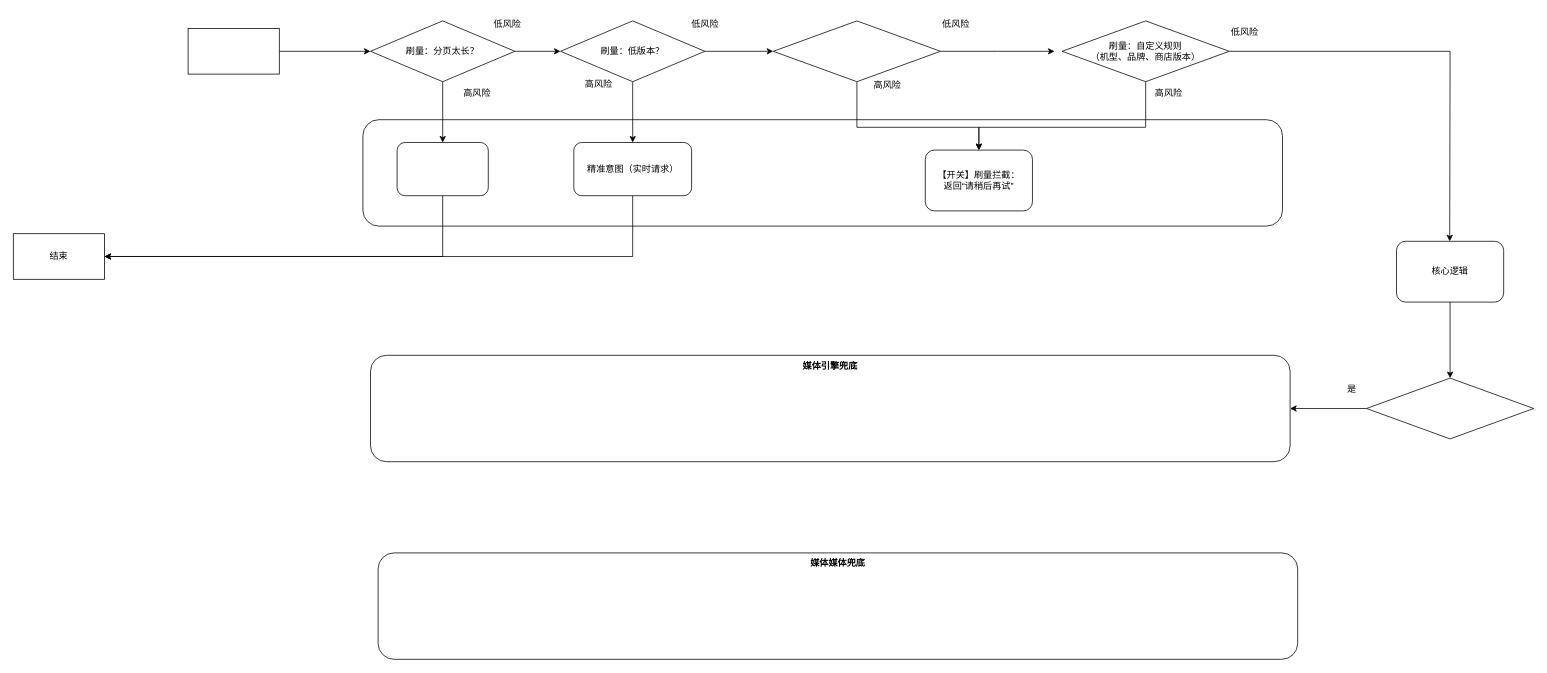
Image size: 1547x673. Some labels were removed from this diagram. Here are the shapes that lost their labels. From the top down, the box of each, then its label:
(187, 28, 279, 74): 开始
(773, 20, 940, 82): 实时风控刷量识别（仅结果页）
(396, 142, 488, 196): 返回提示语
(362, 119, 1282, 226): 刷量兜底
(1366, 377, 1534, 439): searchApp失败/返空？
